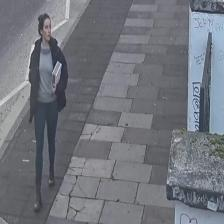person: (29, 14, 68, 210)
